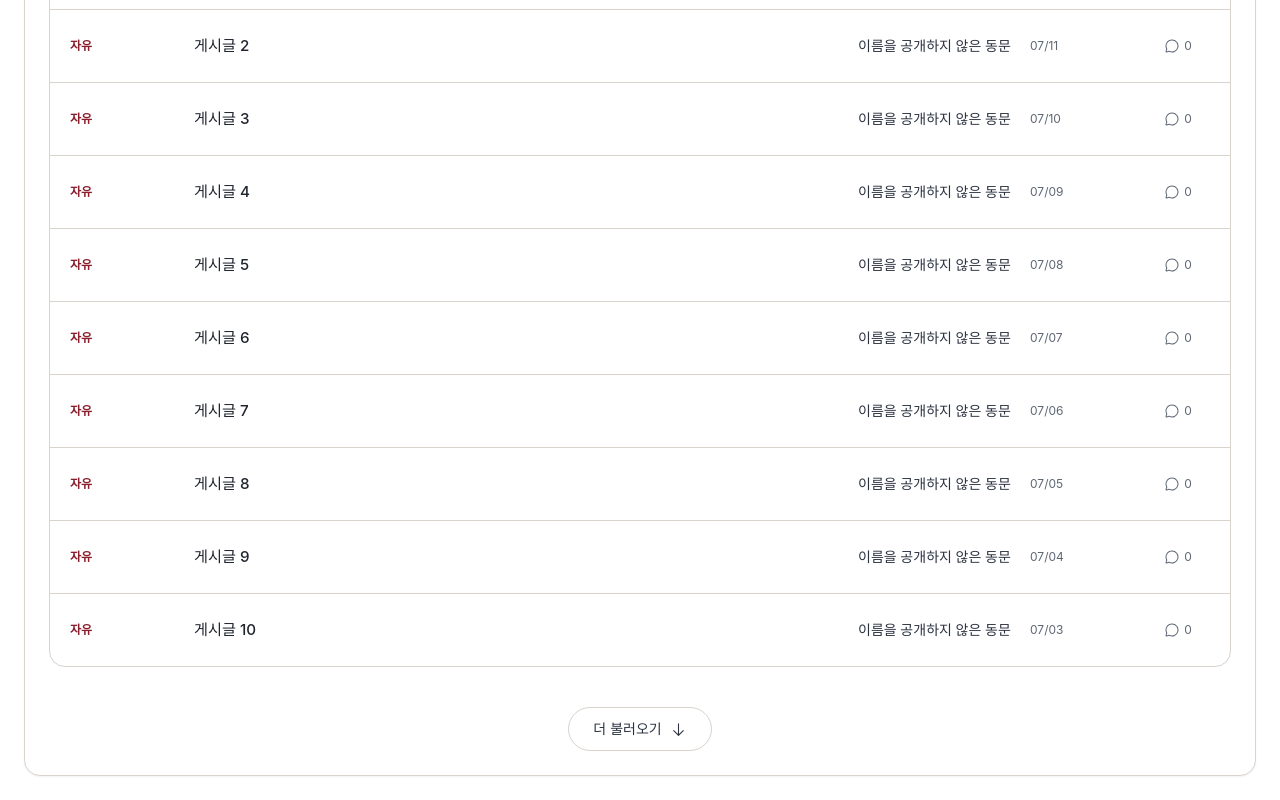
BoardPage › 다음 페이지를 불러와도 앞선 게시글을 유지한다
The image size is (1280, 800).
(page scrolled)
Click the button "더 불러오기". click: (640, 729)
box: [568,707,712,751]
(page scrolled)
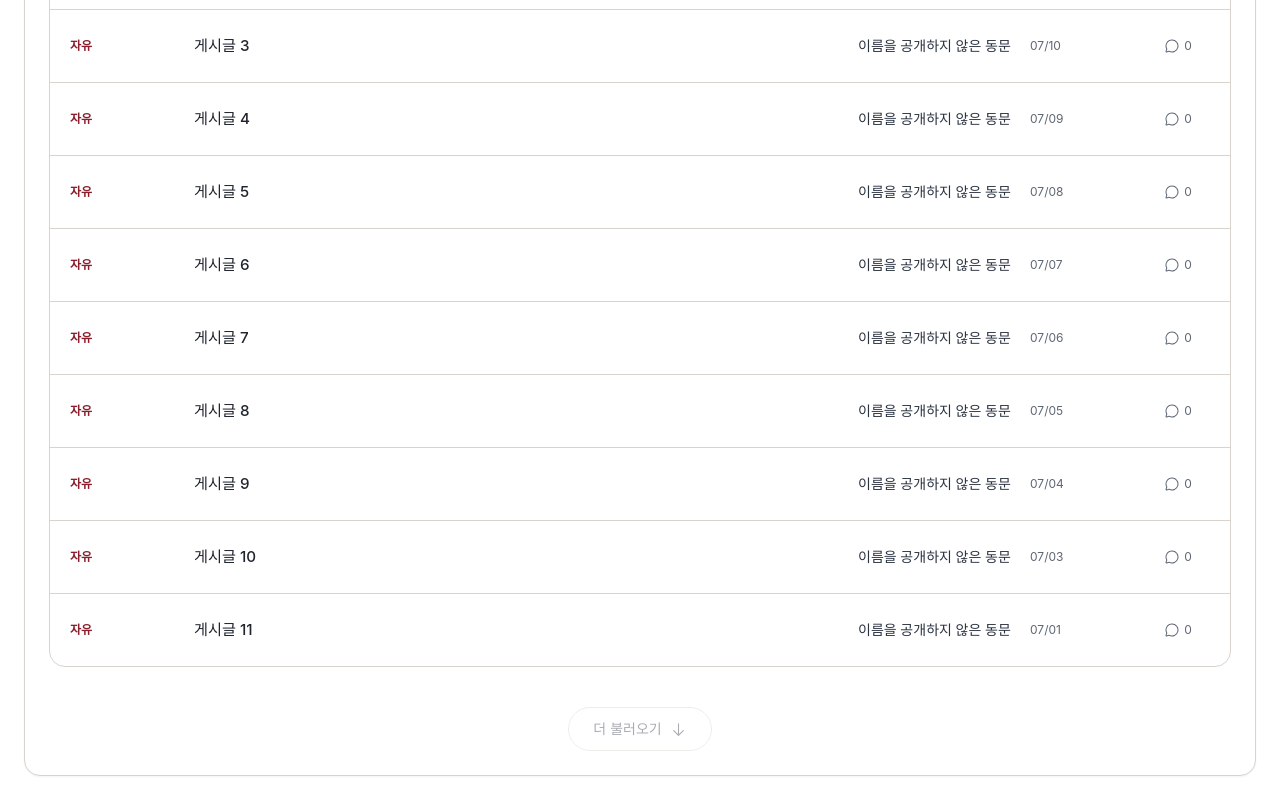
Check: the text "게시글 11" is shown, box [194,618,253,642]
Check: the button "더 불러오기" is disabled, box [568,707,712,751]
